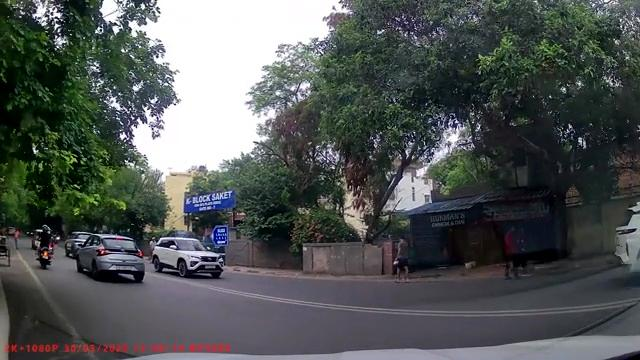motorcycle_with_helmet: (33, 223, 56, 269)
